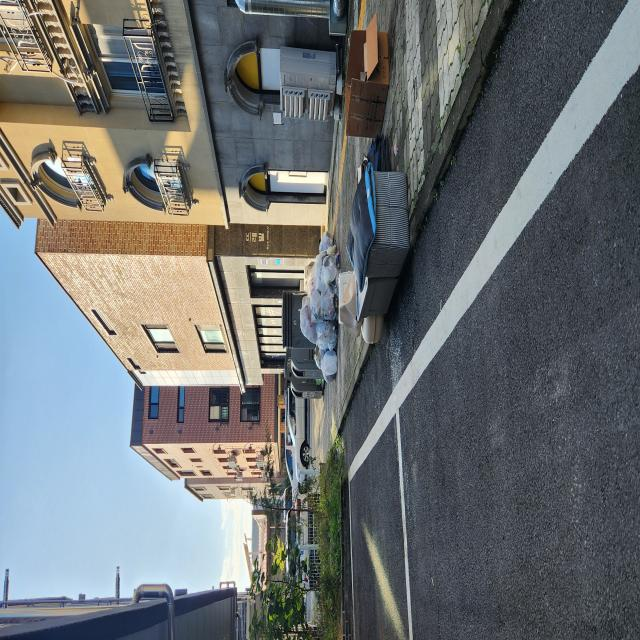CleanNet: (109, 612, 141, 640)
